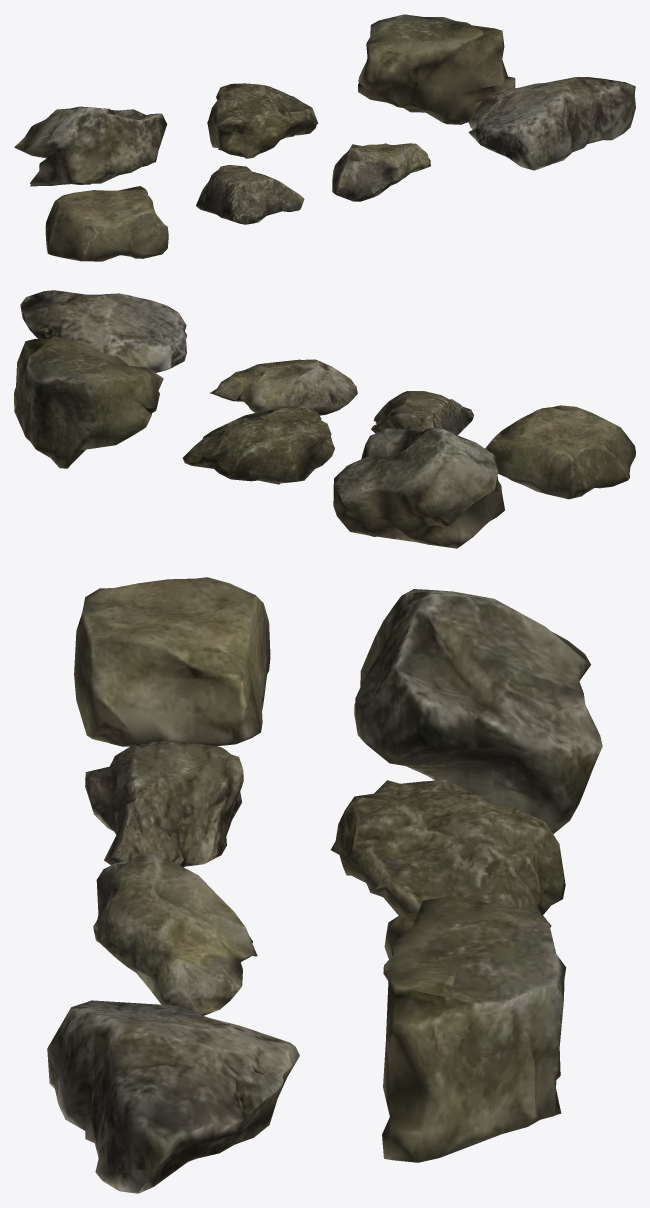
File: rock_moss_set_02.glb
3 views of the same model, one above another, from view 1: azimuth 30°, elevation 25°; view 2: azimuth 150°, elevation 25°; view 3: azimuth 270°, elevation 25° (orthographic). The views are drawn at different scales.
Parts seen in each view (by area): view 1: rock_moss_set_02_rock13, rock_moss_set_02_rock10, rock_moss_set_02_rock11, rock_moss_set_02_rock07, rock_moss_set_02_rock12, rock_moss_set_02_rock08, rock_moss_set_02_rock09; view 2: rock_moss_set_02_rock11, rock_moss_set_02_rock13, rock_moss_set_02_rock07, rock_moss_set_02_rock10, rock_moss_set_02_rock12, rock_moss_set_02_rock09, rock_moss_set_02_rock08; view 3: rock_moss_set_02_rock11, rock_moss_set_02_rock13, rock_moss_set_02_rock10, rock_moss_set_02_rock07, rock_moss_set_02_rock12, rock_moss_set_02_rock09, rock_moss_set_02_rock08.
Boxes of the visible parts, box(x1,y1,x2,y2) form: rock_moss_set_02_rock13: box(358, 14, 515, 124); rock_moss_set_02_rock10: box(468, 77, 635, 170); rock_moss_set_02_rock11: box(14, 106, 167, 186); rock_moss_set_02_rock07: box(45, 186, 168, 261); rock_moss_set_02_rock12: box(207, 83, 318, 158); rock_moss_set_02_rock08: box(196, 165, 304, 224); rock_moss_set_02_rock09: box(332, 143, 430, 201); rock_moss_set_02_rock11: box(333, 428, 504, 548); rock_moss_set_02_rock13: box(14, 336, 163, 468); rock_moss_set_02_rock07: box(485, 405, 635, 499); rock_moss_set_02_rock10: box(20, 290, 186, 372); rock_moss_set_02_rock12: box(183, 406, 334, 484); rock_moss_set_02_rock09: box(210, 359, 357, 415); rock_moss_set_02_rock08: box(371, 391, 473, 434); rock_moss_set_02_rock11: box(354, 589, 602, 833); rock_moss_set_02_rock13: box(382, 895, 566, 1162); rock_moss_set_02_rock10: box(47, 1000, 299, 1193); rock_moss_set_02_rock07: box(74, 577, 270, 746); rock_moss_set_02_rock12: box(331, 780, 565, 927); rock_moss_set_02_rock09: box(93, 852, 257, 1015); rock_moss_set_02_rock08: box(85, 741, 243, 867).
Size of the model in its own units: 8.26 by 1.36 by 3.41.
1 material, 1 textured.
